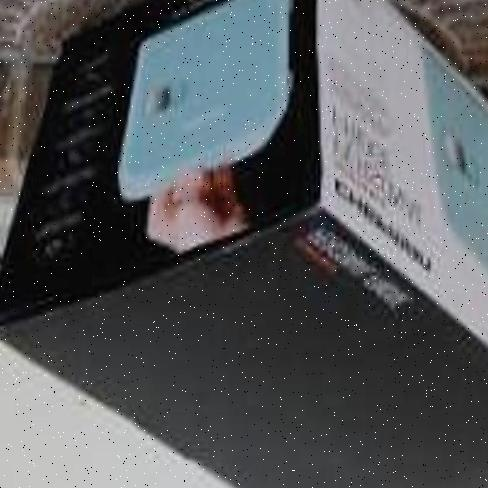Other: (5, 0, 488, 488)
